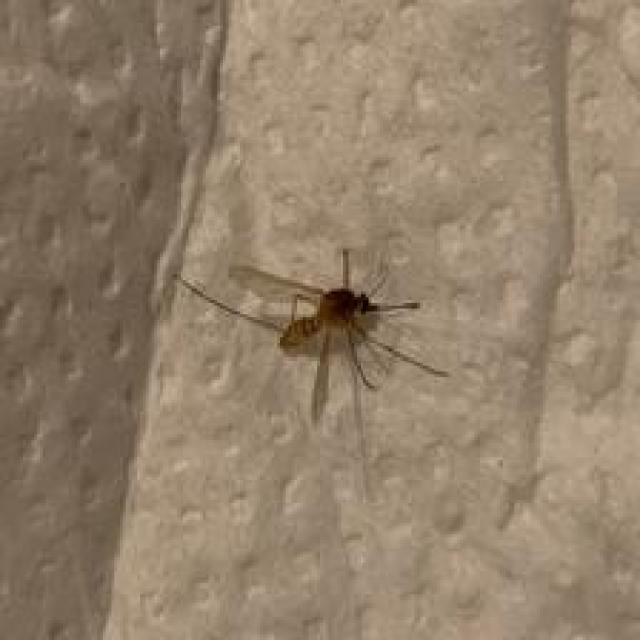Culex: (172, 245, 452, 426)
